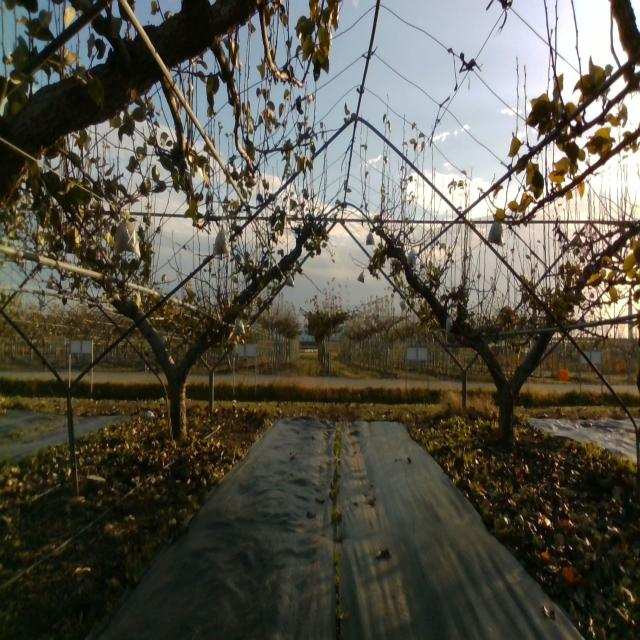pearbags: (112, 208, 140, 256), (488, 216, 504, 247), (214, 224, 229, 257)
